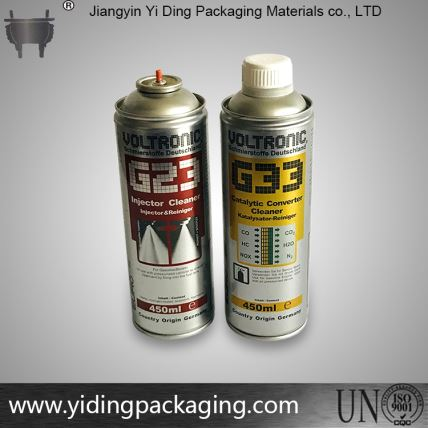Aerosol_cans: (112, 66, 218, 342), (218, 52, 316, 343)
